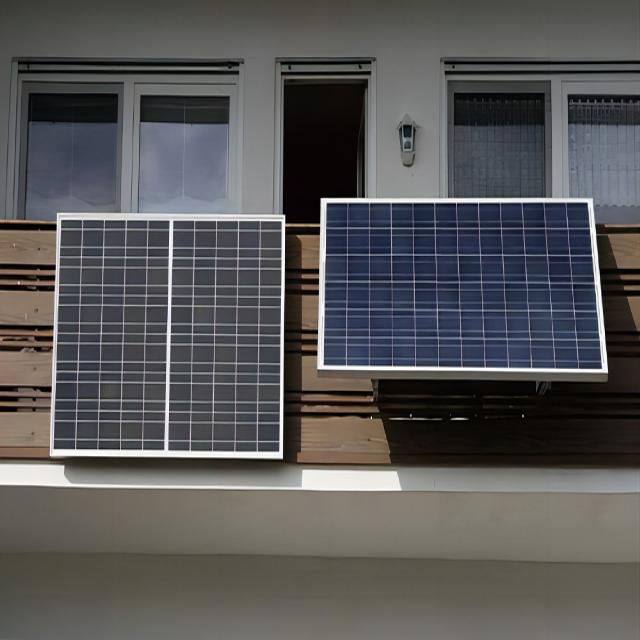no faulty: (58, 211, 287, 456), (328, 196, 602, 391)
